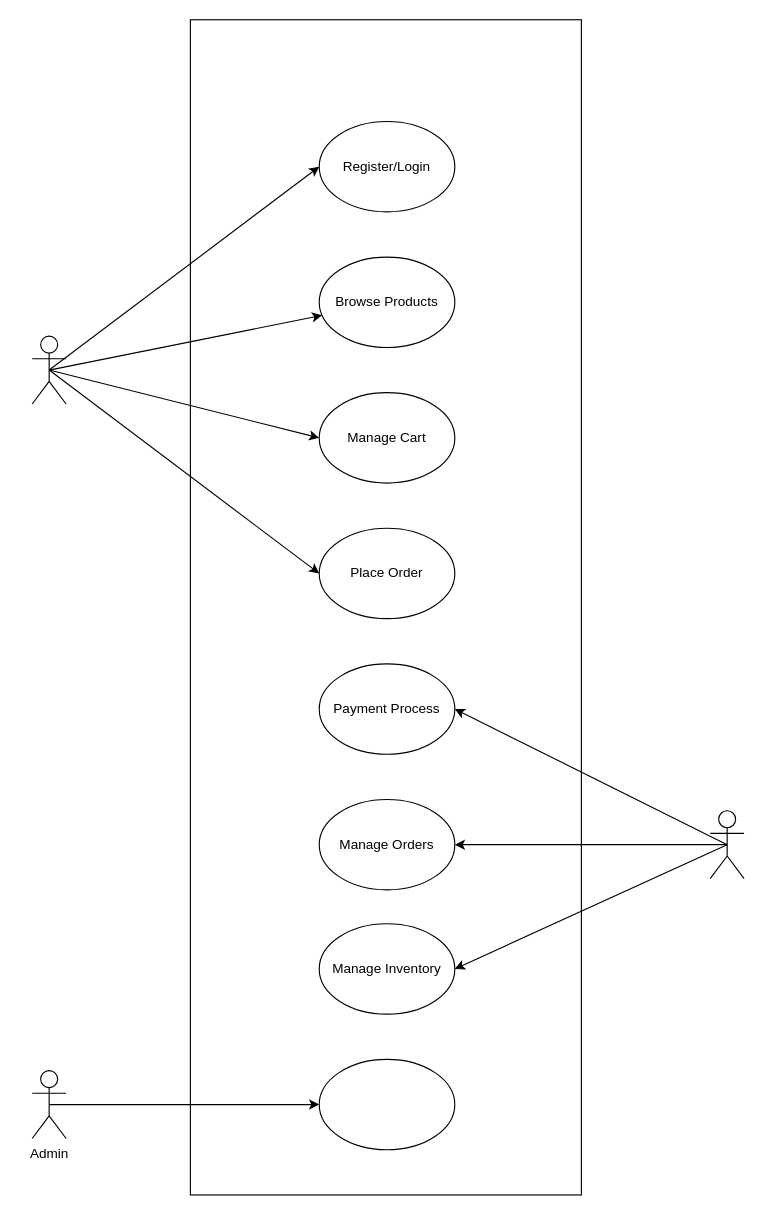
This 764x1215 diagram has some shape labels left out. Here are the shapes that lost their labels. From the top down, the centre of each, then its label:
At point 48,369: "Customer".
At point 726,844: "Staff".
At point 386,1104: "Generate Reports".
